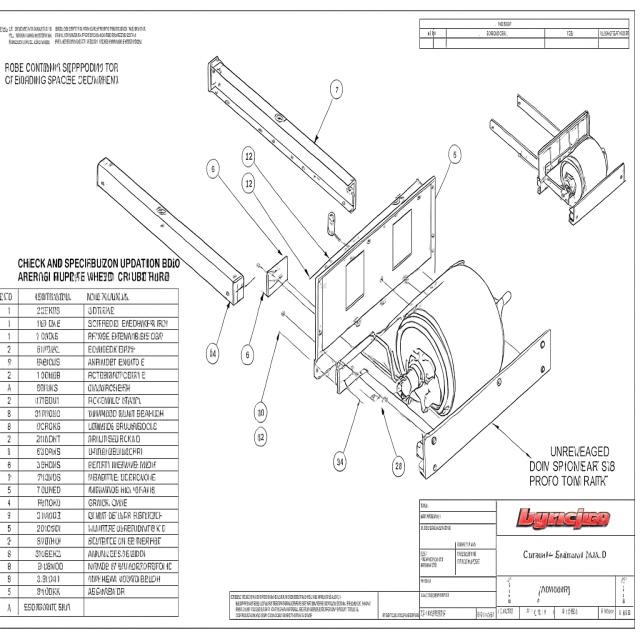Isometric view: (251, 178, 553, 484), (478, 81, 628, 227)
Table 1: (1, 288, 179, 619)
Table 2: (419, 499, 636, 630)
Table 3: (229, 590, 422, 624)
Table 4: (420, 19, 635, 57)
text1: (0, 13, 149, 87)
text2: (16, 256, 182, 289)
text3: (529, 439, 618, 487)
